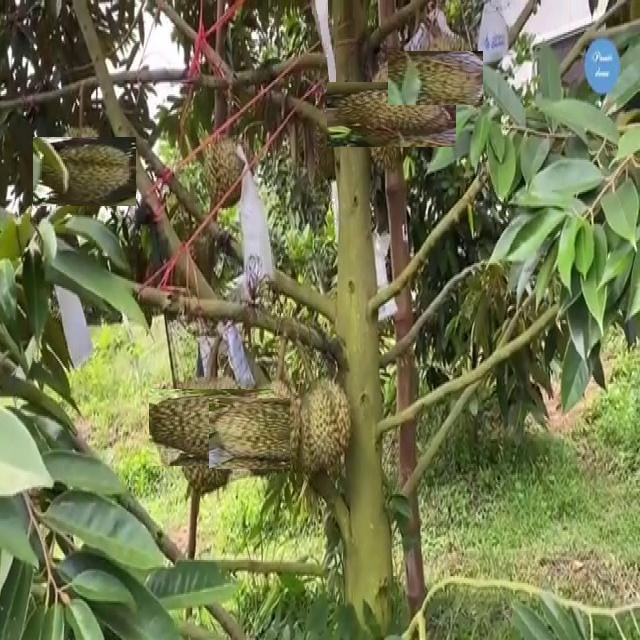durian: (161, 377, 262, 478), (343, 66, 440, 164), (221, 386, 317, 481), (41, 129, 128, 215), (290, 376, 354, 478), (398, 40, 472, 116), (202, 133, 260, 215)
